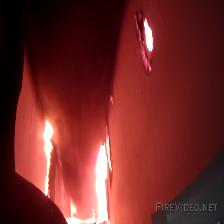fire: (45, 87, 134, 224), (129, 9, 172, 80)
